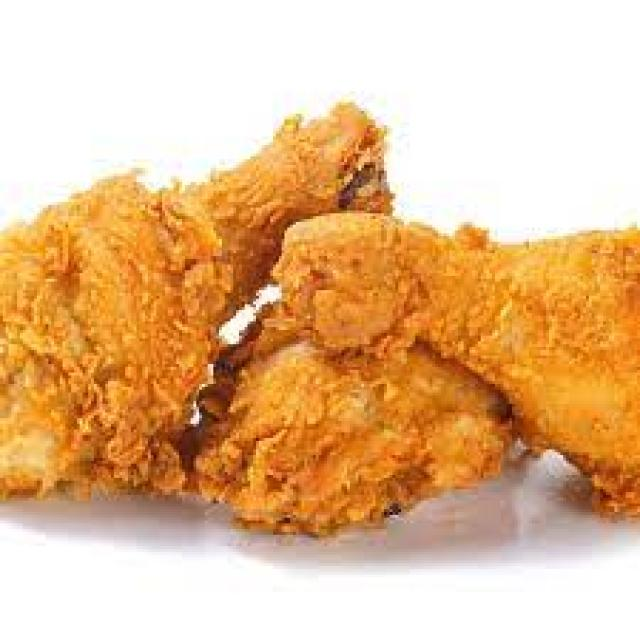Frango: (0, 124, 376, 464), (272, 217, 640, 487), (219, 311, 499, 519)
